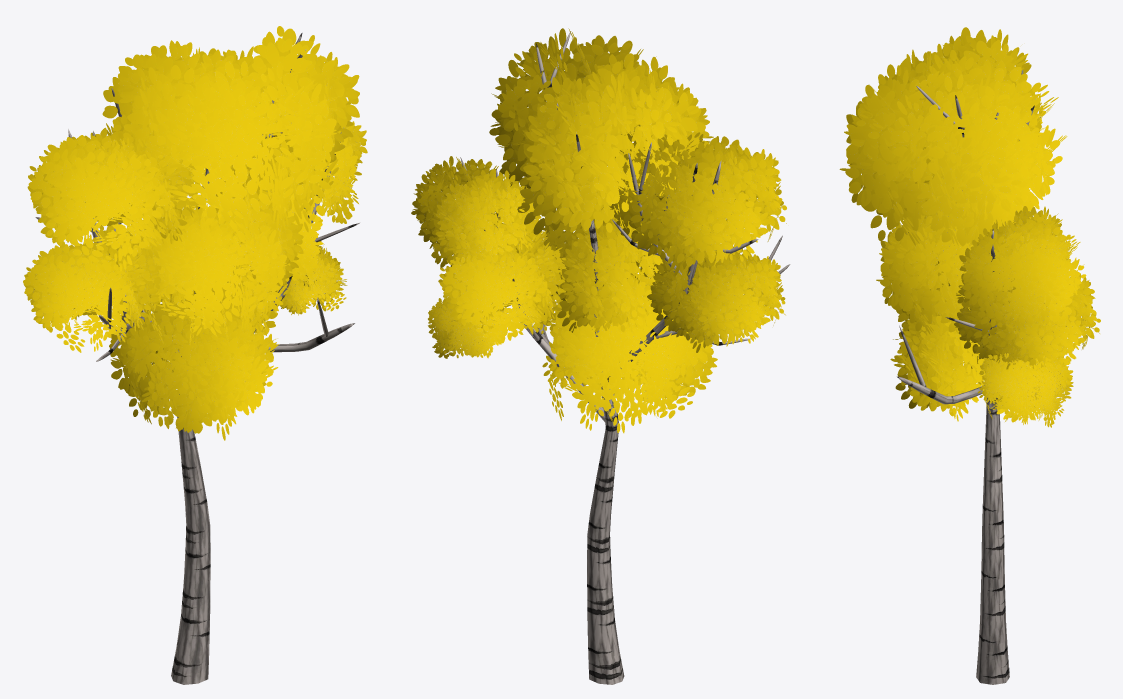
Rendered from q_birch_3.glb.
3 renders of one model, left to right at view 1: azimuth 30°, elevation 25°; view 2: azimuth 150°, elevation 25°; view 3: azimuth 270°, elevation 25°, orthographic. The views are drawn at different scales.
Parts seen in each view (by area): view 1: BirchTree_3; view 2: BirchTree_3; view 3: BirchTree_3.
Part boxes in pixels (x1,y1,x2,y2): BirchTree_3: (23, 26, 367, 684); BirchTree_3: (411, 28, 790, 684); BirchTree_3: (839, 27, 1100, 684).
Bounding box in the file's own units: 5.97 × 10 × 3.94.
2 materials, 2 textured.
